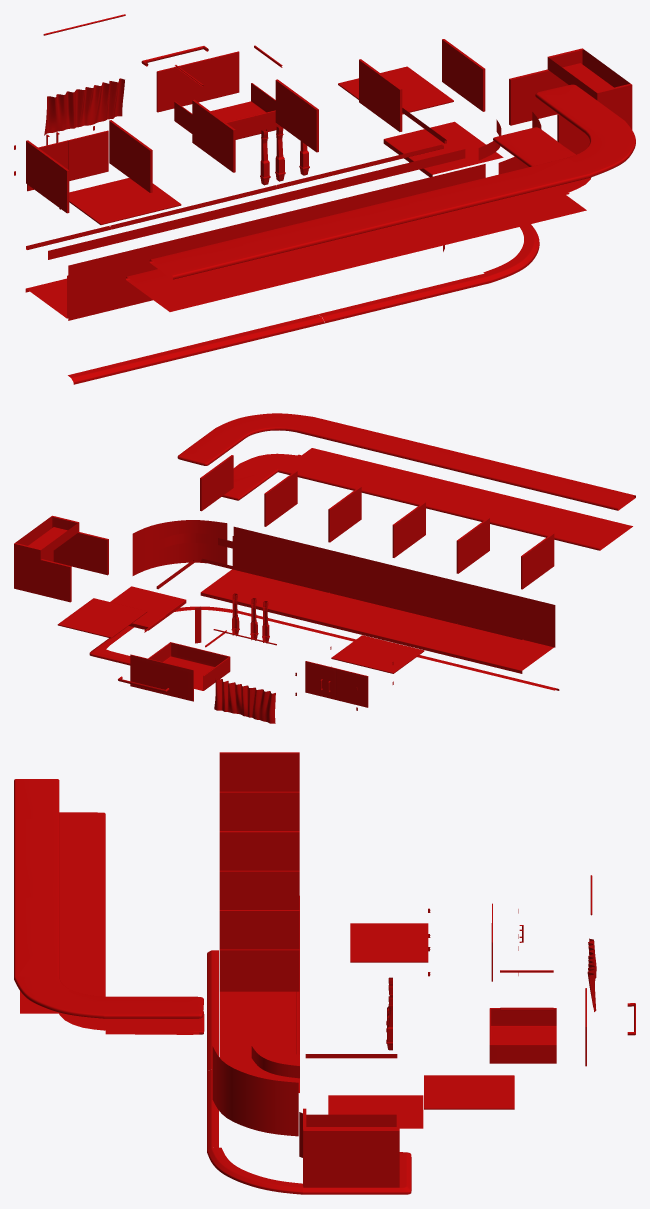
File: Bar_HP.fbx
3 views of the same model, one above another, from view 1: azimuth 30°, elevation 25°; view 2: azimuth 150°, elevation 25°; view 3: azimuth 270°, elevation 25° (orthographic). The views are drawn at different scales.
Parts seen in each view (by area): view 1: bar_modul (×3), HP_Bar_workspace, Bar_top, board_bar (×3), board_bar1 (×3), bar_endpice, drawer_front, board1, curtain, bar_endpice_botom, drawer, bar_corner_top1 (+11 smaller); view 2: bar_modul (×3), HP_Bar_workspace, Bar_top, bar_endpice, bar_corner, board_bar1 (×3), board_bar (×3), board1, board2, drawer_front, drawer, curtain (+9 smaller); view 3: board_bar1 (×3), board_bar (×3), Bar_top, HP_Bar_workspace, bar_endpice, bar_modul (×2), bar_corner, drawer, board2, board1, bar_corner_top1, bar_endpice_top (+6 smaller).
Boxes of the visible parts, left/top/right/bottom form: bar_modul (×3): left=25, top=149, right=485, bottom=320; HP_Bar_workspace: left=125, top=185, right=586, bottom=311; Bar_top: left=149, top=158, right=590, bottom=279; board_bar (×3): left=26, top=59, right=402, bottom=213; board_bar1 (×3): left=109, top=39, right=485, bottom=192; bar_endpice: left=509, top=48, right=632, bottom=154; drawer_front: left=156, top=51, right=239, bottom=112; board1: left=69, top=178, right=181, bottom=224; curtain: left=44, top=78, right=124, bottom=135; bar_endpice_botom: left=383, top=121, right=503, bottom=177; drawer: left=174, top=83, right=280, bottom=139; bar_corner_top1: left=567, top=120, right=635, bottom=177; bar_modul (×3): left=200, top=526, right=555, bottom=673; HP_Bar_workspace: left=278, top=448, right=632, bottom=550; Bar_top: left=296, top=417, right=635, bottom=510; bar_endpice: left=14, top=515, right=108, bottom=602; bar_corner: left=132, top=520, right=227, bottom=575; board_bar1 (×3): left=200, top=455, right=489, bottom=573; board_bar (×3): left=264, top=470, right=554, bottom=589; board1: left=331, top=635, right=424, bottom=673; board2: left=57, top=598, right=147, bottom=638; drawer_front: left=130, top=654, right=193, bottom=701; drawer: left=148, top=642, right=230, bottom=690; curtain: left=214, top=679, right=275, bottom=723; board_bar1 (×3): left=219, top=791, right=299, bottom=991; board_bar (×3): left=219, top=752, right=299, bottom=949; Bar_top: left=14, top=779, right=59, bottom=977; HP_Bar_workspace: left=20, top=812, right=105, bottom=1013; bar_endpice: left=303, top=1108, right=399, bottom=1187; bar_modul (×2): left=219, top=936, right=299, bottom=1092; bar_corner: left=212, top=1046, right=299, bottom=1136; drawer: left=489, top=1008, right=556, bottom=1063; board2: left=424, top=1075, right=514, bottom=1109; board1: left=350, top=923, right=428, bottom=962; bar_corner_top1: left=14, top=976, right=105, bottom=1018; bar_endpice_top: left=104, top=996, right=203, bottom=1018.
Size of the model in its own units: 1316 by 441 by 1201.
